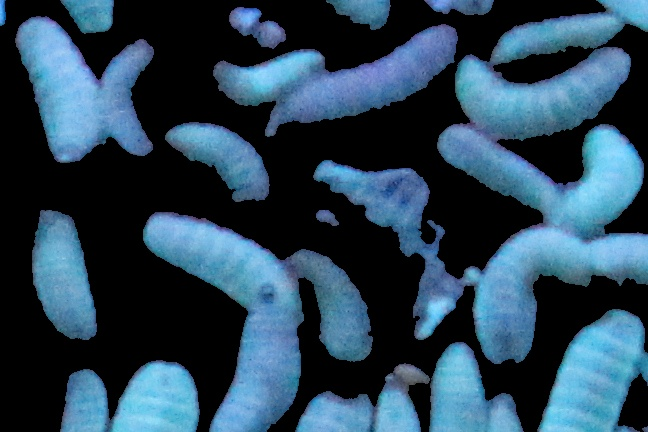larvae: (270, 23, 460, 123), (473, 227, 586, 368), (457, 48, 629, 138), (143, 209, 300, 306), (207, 303, 312, 432), (537, 311, 648, 432), (15, 14, 98, 159), (291, 248, 385, 362), (438, 124, 555, 215), (166, 121, 276, 202), (27, 208, 92, 343), (557, 127, 644, 225), (490, 11, 622, 65), (102, 38, 158, 156), (112, 357, 200, 432), (210, 49, 326, 100), (425, 343, 490, 432), (55, 364, 112, 432), (580, 230, 648, 284)
